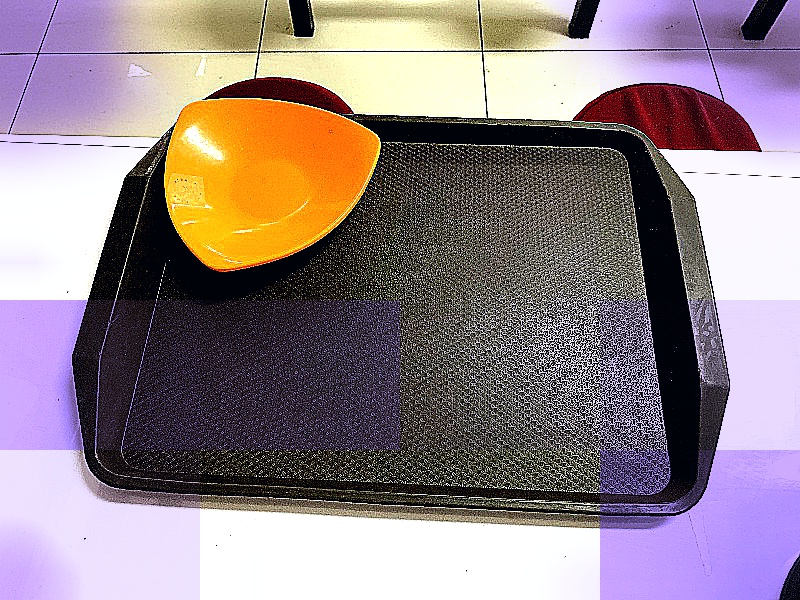dish11: (158, 94, 388, 280)
